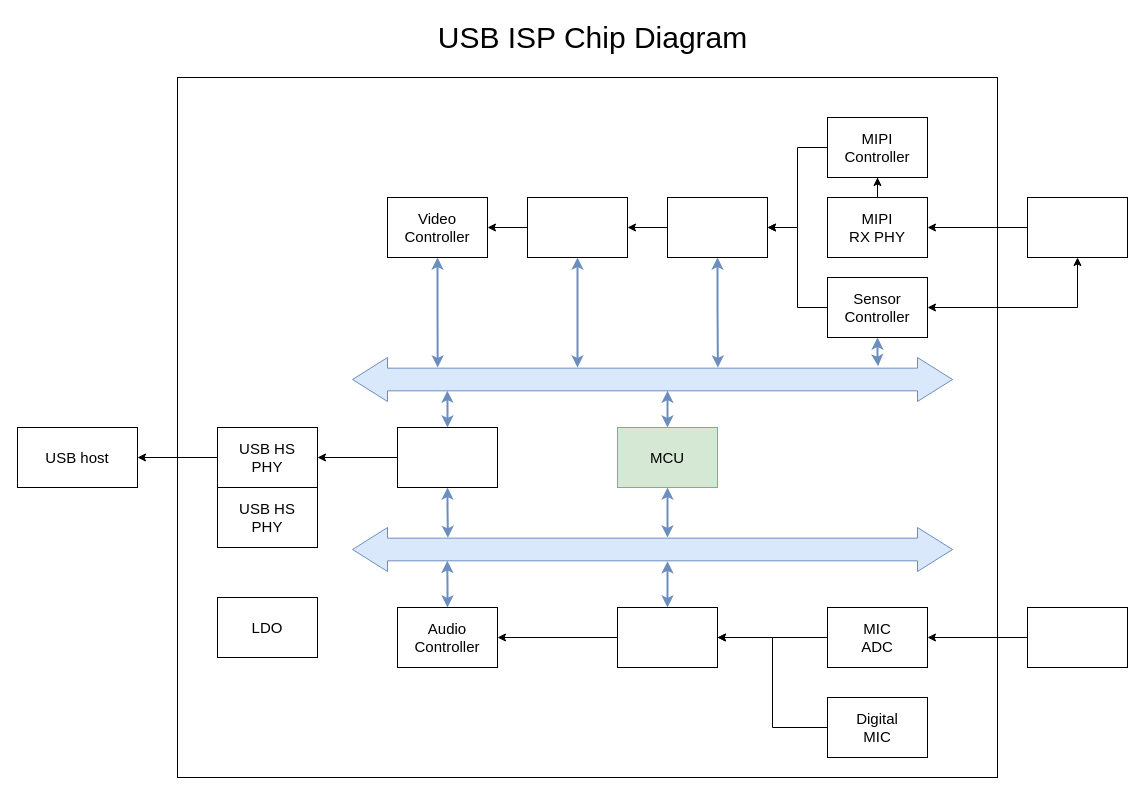
This 1145x795 diagram has some shape labels left out. The shapes that lost their labels are listed below. From the top down, each one's box as (x1, y1, x2, y2) in pixels, then its label:
(526, 196, 628, 258): JEPG Engine
(666, 196, 768, 258): ISP Engine
(1026, 196, 1128, 258): CMOS Image Sensor
(396, 426, 498, 488): USB Device Controller
(616, 606, 718, 668): Audio Filter
(1026, 606, 1128, 668): Analog MIC
